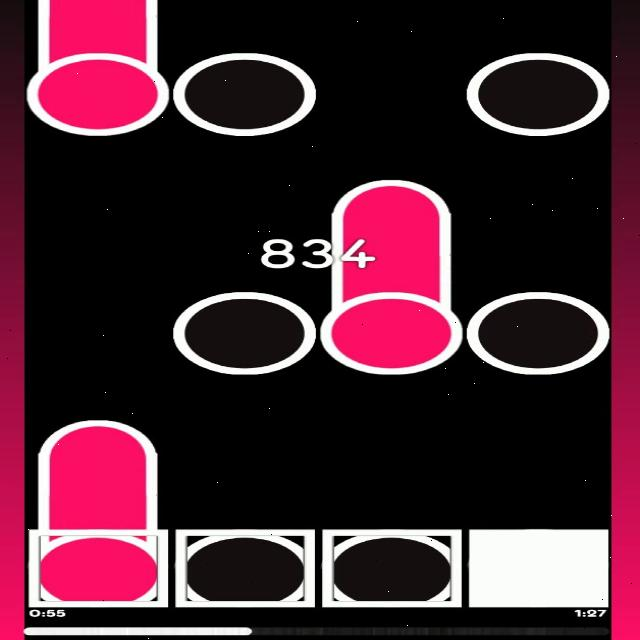end_hold: (329, 170, 453, 219), (36, 411, 158, 460)
note: (468, 291, 608, 376), (176, 292, 315, 375), (172, 54, 314, 135), (467, 54, 607, 136), (183, 535, 306, 602), (332, 535, 453, 601)
start_hold: (26, 36, 168, 136), (317, 278, 463, 374), (39, 514, 156, 604)
